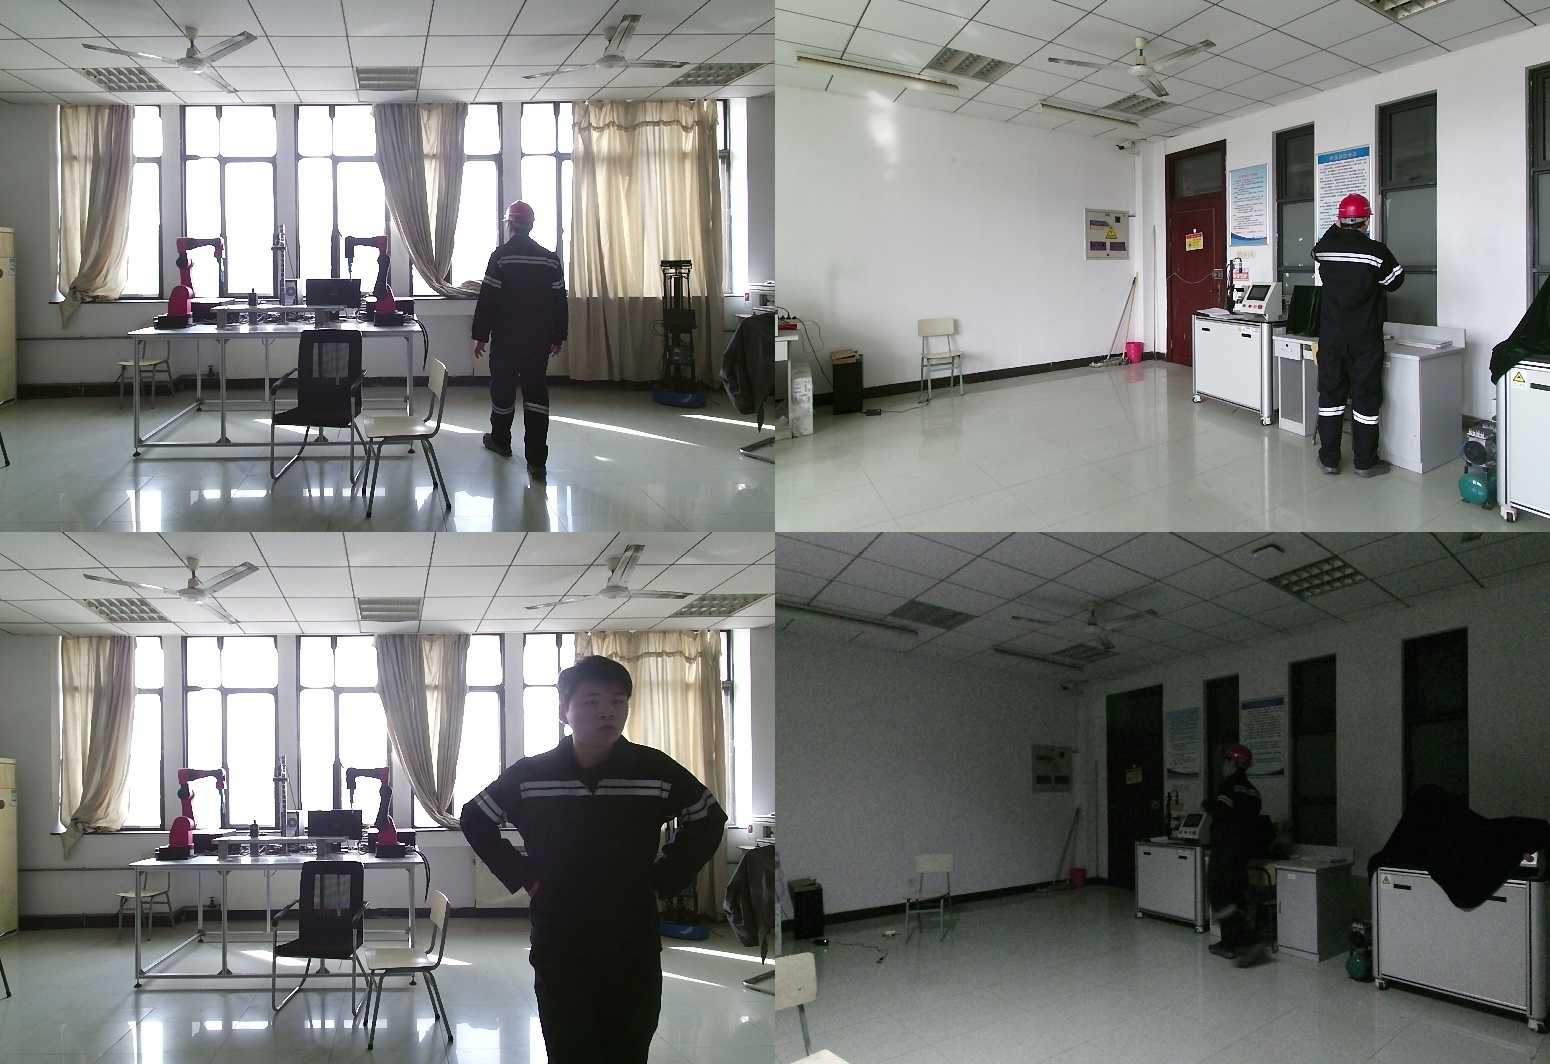person: (472, 660, 737, 1064), (1307, 193, 1426, 474), (477, 201, 579, 488), (1209, 743, 1286, 969)
